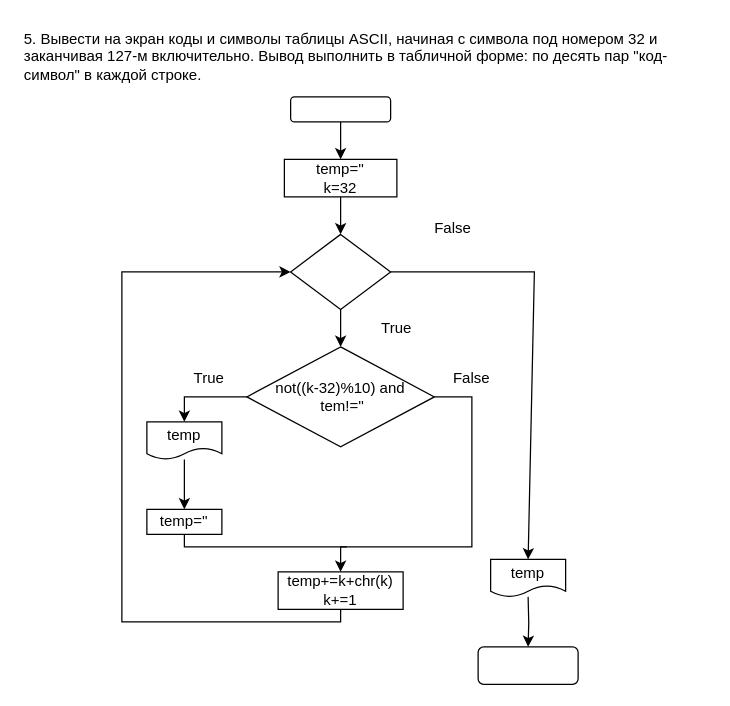
Some shapes in this 730 by 706 pixel diagram are drawn without their labels. The centre of each missing label's shape, as x and y in pixels:
k<128: (x=340, y=271)
Конец: (x=527, y=665)
Начало: (x=340, y=109)
